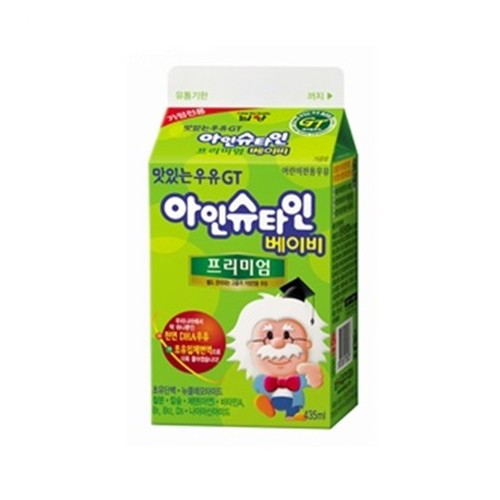milk: (149, 67, 359, 429)
